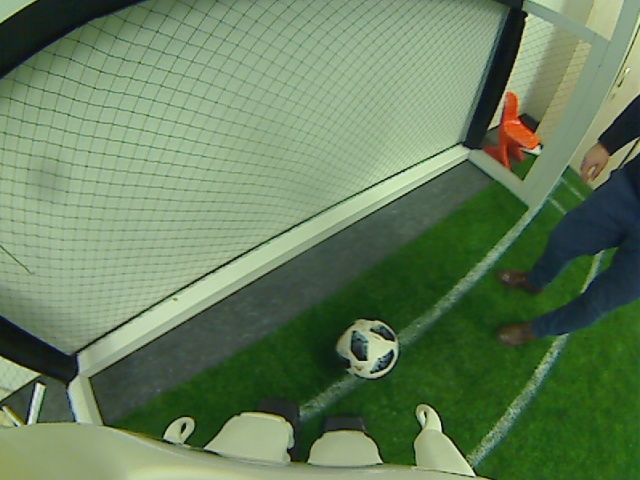ball: (336, 315, 400, 382)
